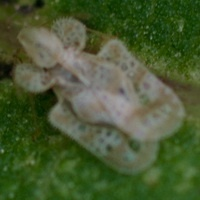insect: (14, 17, 184, 173)
